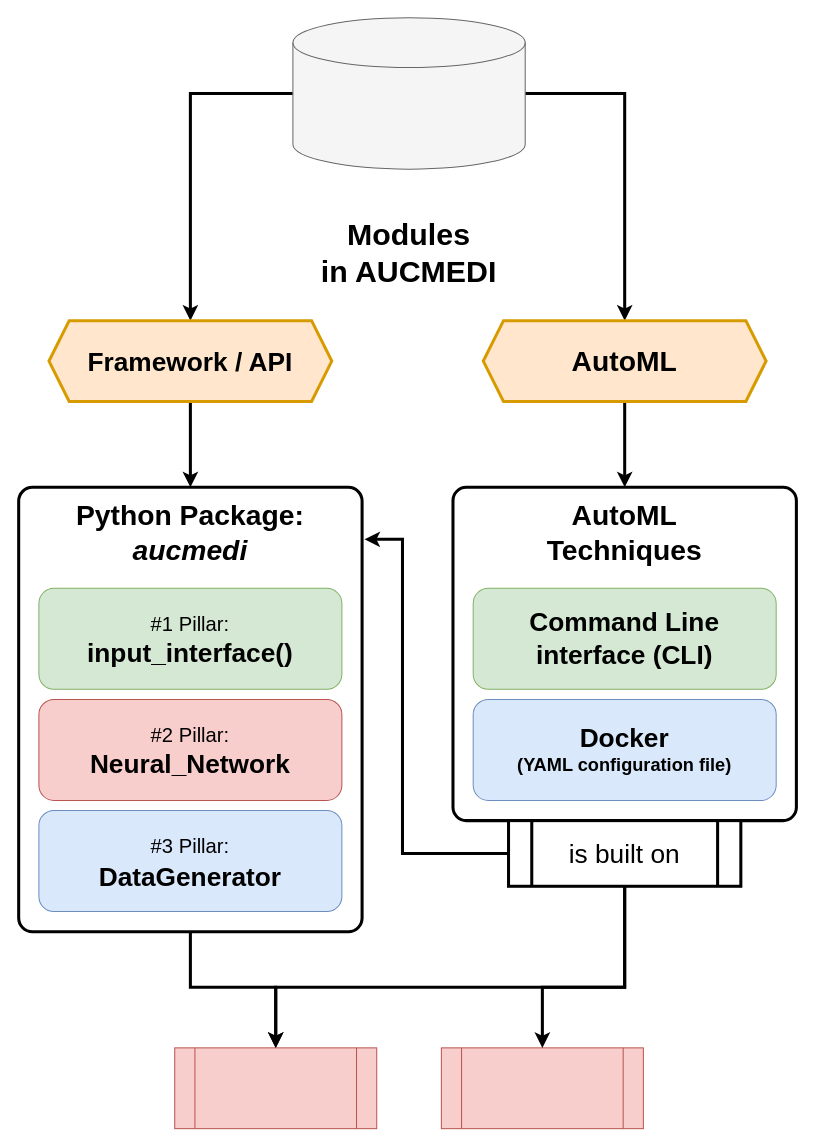
The diagram is 815 pixels wide and 1146 high, and some of its shapes have lost their labels. The shapes that lost their labels are listed below. From the top down, each one's centre as x and y in pixels, then its label:
At point (408, 93): "Imaging Dataset".
At point (275, 1088): "Model Training".
At point (541, 1088): "Model Prediction".
